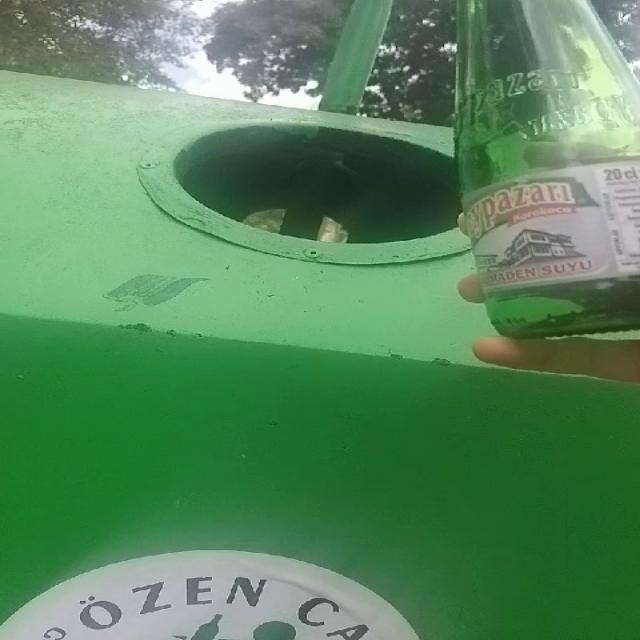glass: (456, 0, 640, 338)
